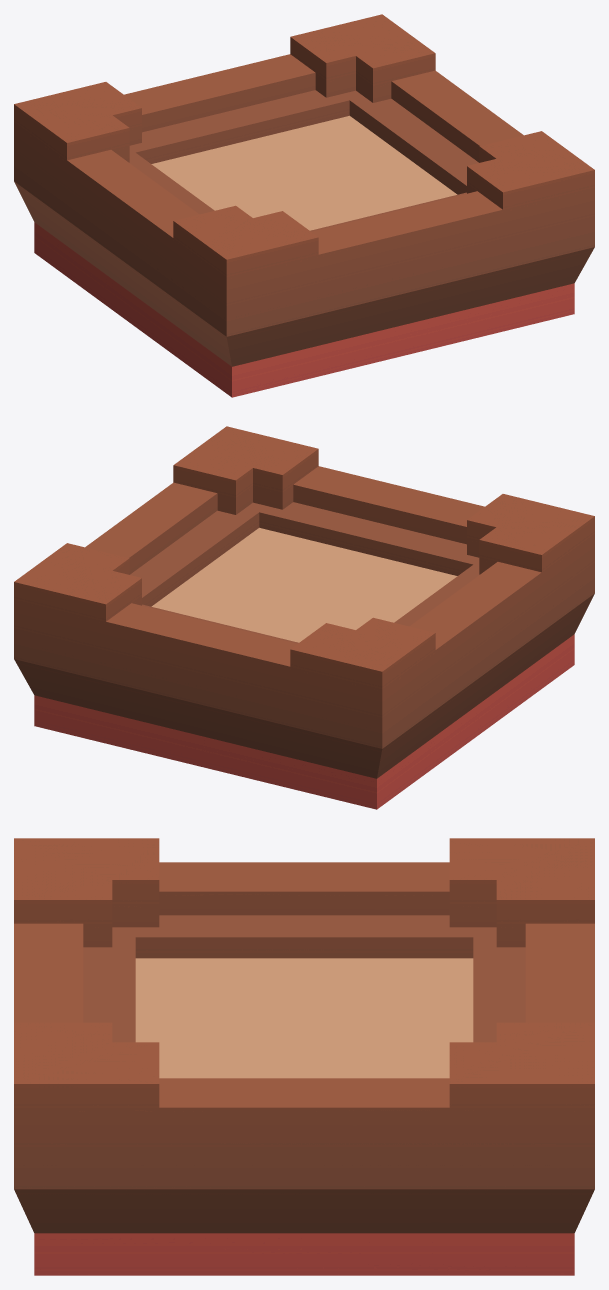
Rendered from tower-square-top-color.glb.
3 renders of one model, top to bottom at view 1: azimuth 30°, elevation 25°; view 2: azimuth 150°, elevation 25°; view 3: azimuth 270°, elevation 25°, orthographic. The views are drawn at different scales.
Parts seen in each view (by area): view 1: tower-square-top-color; view 2: tower-square-top-color; view 3: tower-square-top-color.
Part boxes in pixels (x1,y1,x2,y2): tower-square-top-color: (14,14,594,397); tower-square-top-color: (14,426,594,809); tower-square-top-color: (14,838,594,1275).
Bounding box in the file's own units: 3 × 1.14 × 3.
1 material, 1 textured.
